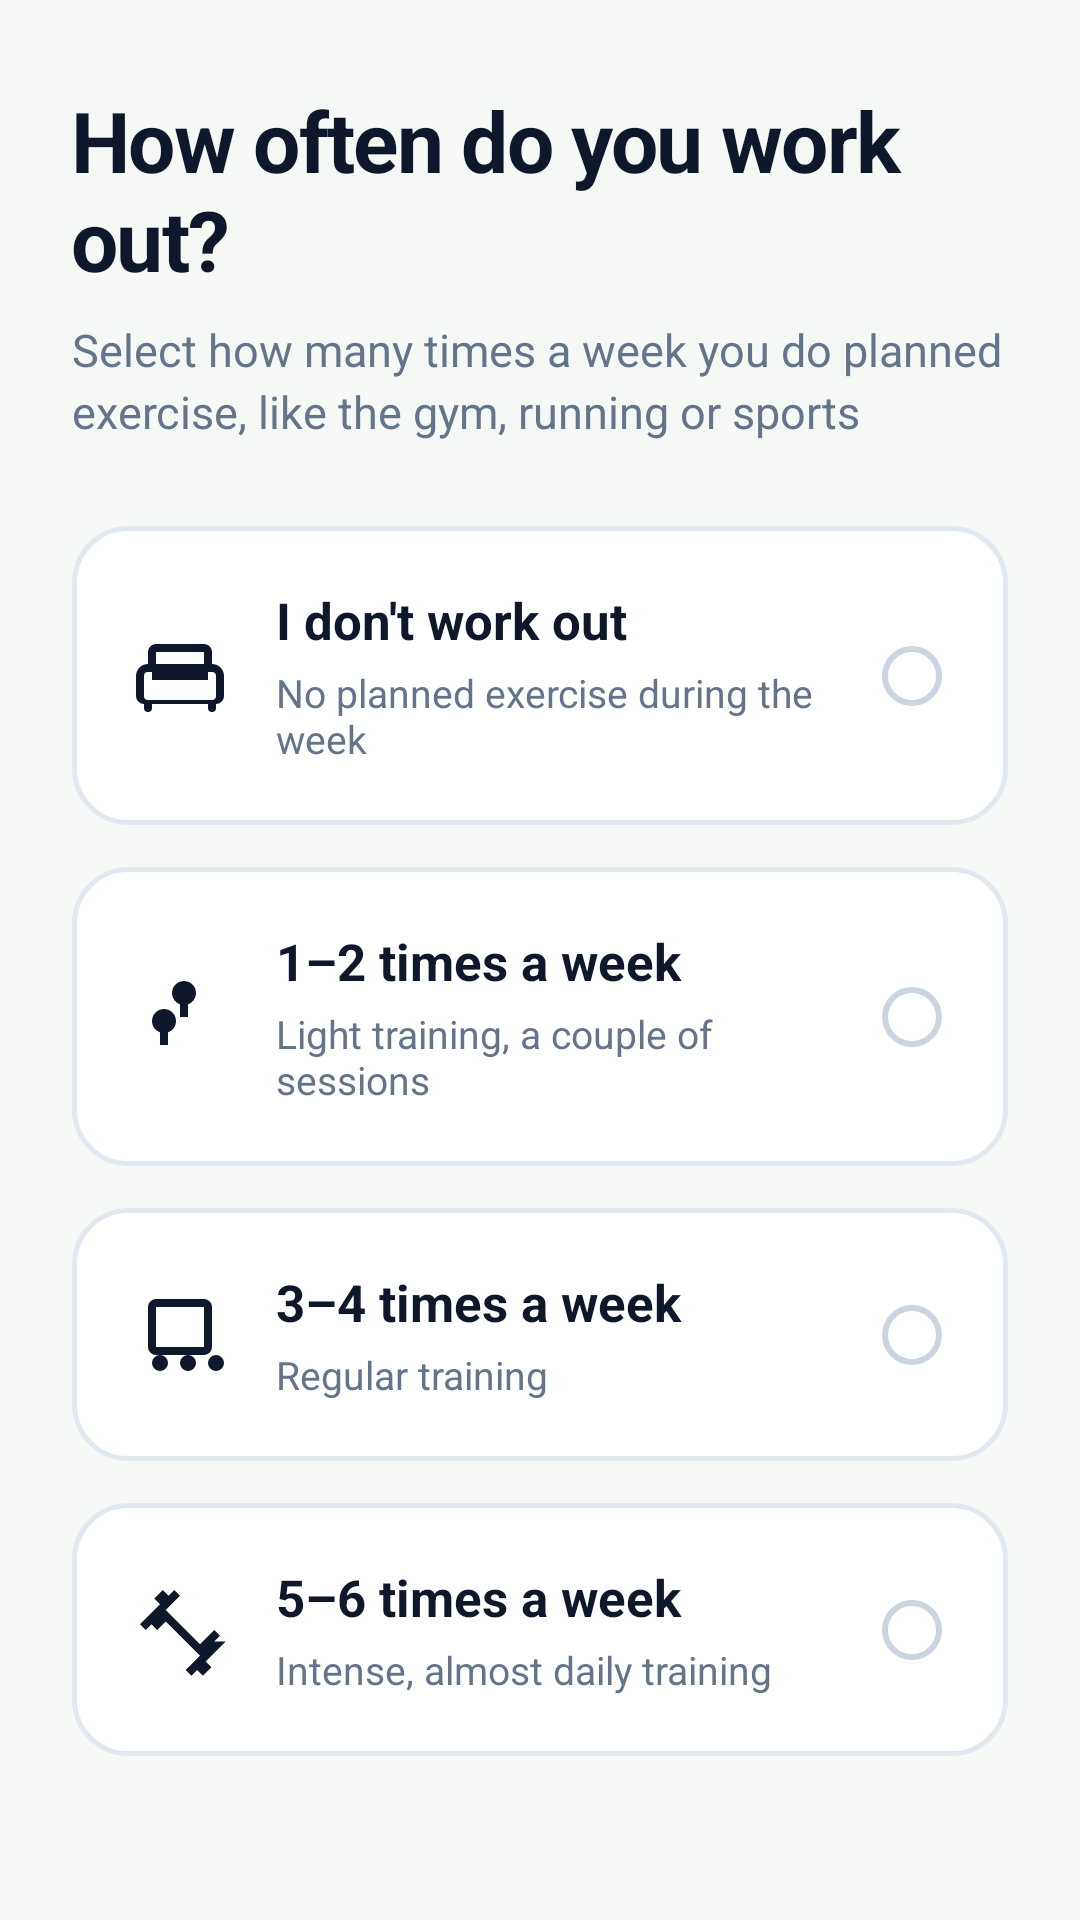

Screen size 1080 × 1920. Icon name, then its box in pixels as (x1, y1, x2, y2):
couch: (136, 644, 224, 712)
footsteps: (152, 981, 196, 1045)
muscle gain: (140, 1590, 226, 1676)
